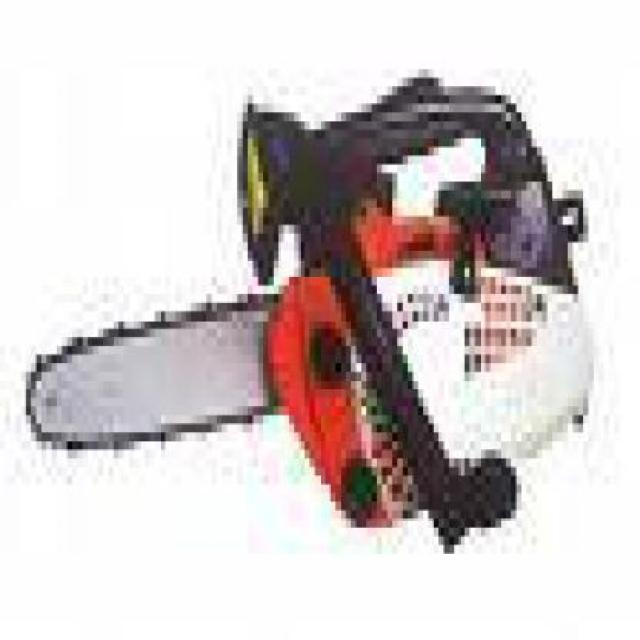Chainsaw: (25, 72, 597, 556)
